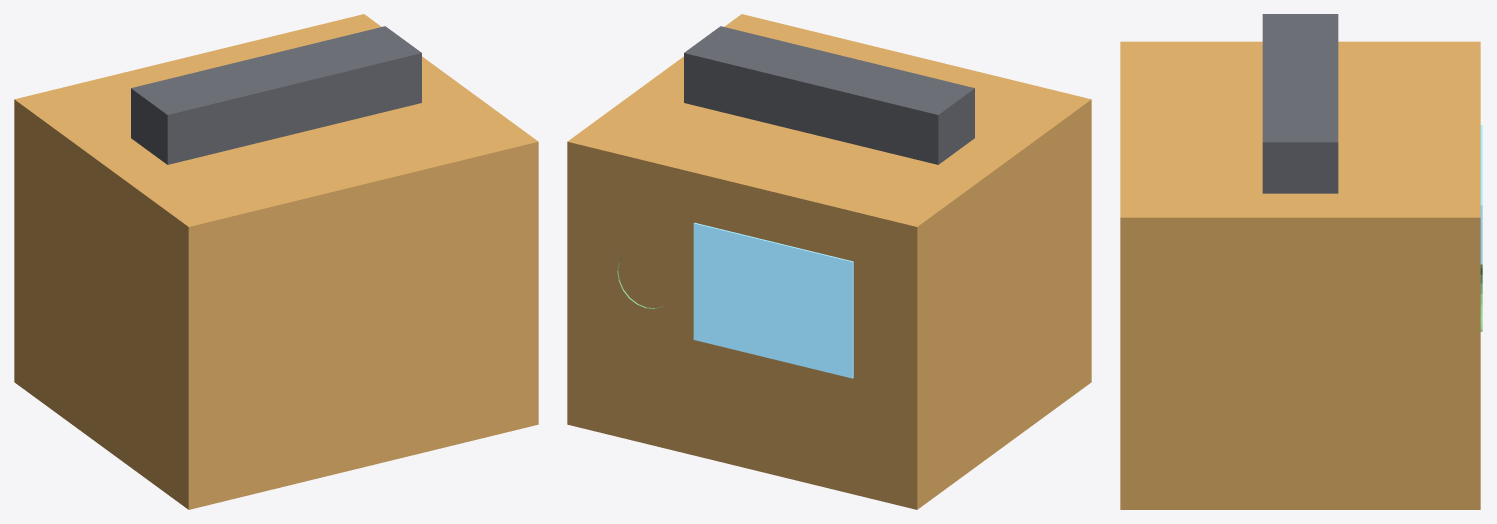
File: defibrillyator.glb
3 renders of one model, left to right at view 1: azimuth 30°, elevation 25°; view 2: azimuth 150°, elevation 25°; view 3: azimuth 270°, elevation 25°, orthographic. The views are drawn at different scales.
Size of the model in its own units: 0.22 by 0.2 by 0.191.
